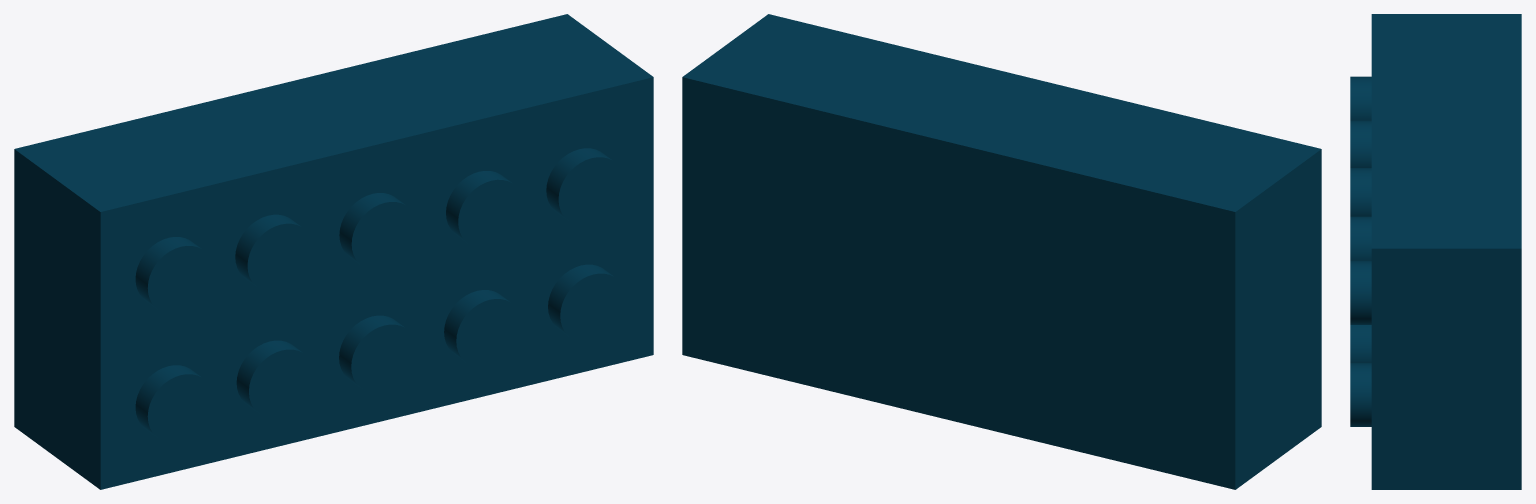
File: brick-large-abyss.glb
3 renders of one model, left to right at view 1: azimuth 30°, elevation 25°; view 2: azimuth 150°, elevation 25°; view 3: azimuth 270°, elevation 25°, orthographic. The views are drawn at different scales.
Size of the model in its own units: 1 by 0.48 by 0.3084.
